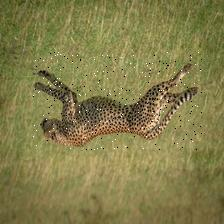Cheetha: (34, 52, 203, 150)
